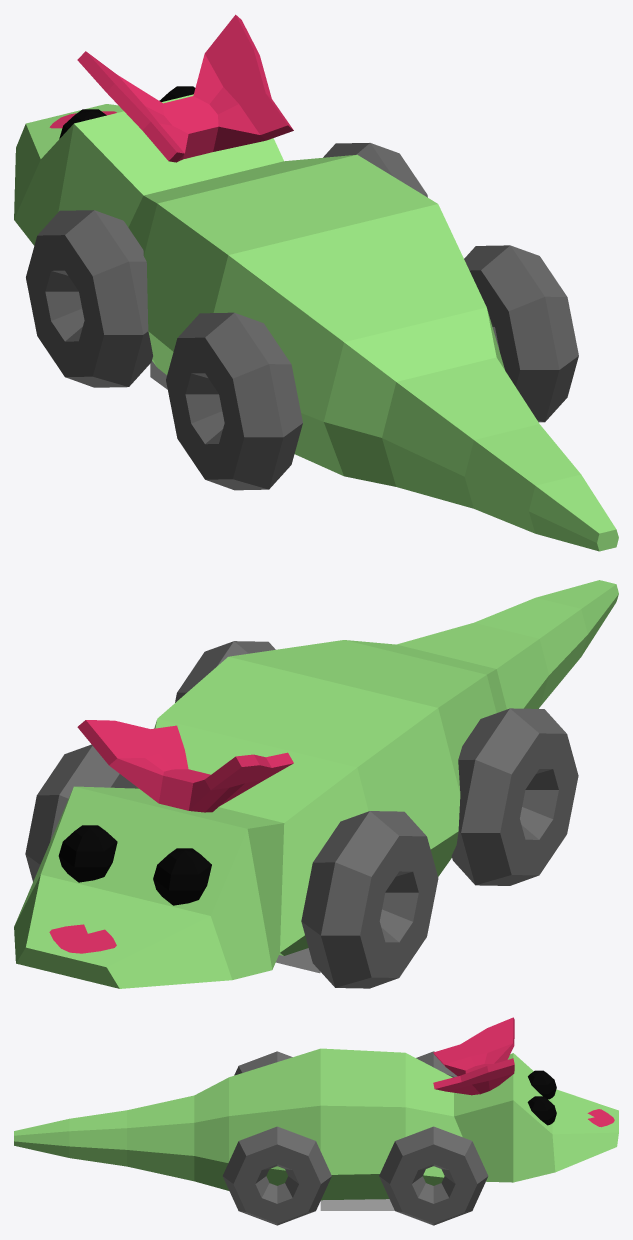
File: lizard.glb
The picture shows the model from 3 angles, top to bottom: view 1: azimuth 30°, elevation 25°; view 2: azimuth 150°, elevation 25°; view 3: azimuth 270°, elevation 25°; orthographic projection. The views are drawn at different scales.
Visible parts, largest first — view 1: Body, Wheels, Plane.002, Eyes; view 2: Body, Wheels, Plane.002, Eyes, Plane.001, Cube; view 3: Body, Wheels, Plane.002, Eyes, Cube, Plane.001.
Boxes of the visible parts, bbox=[...] form: Body: bbox=[14, 94, 618, 551]; Wheels: bbox=[26, 143, 578, 490]; Plane.002: bbox=[77, 14, 293, 162]; Eyes: bbox=[59, 86, 195, 138]; Body: bbox=[14, 580, 618, 988]; Wheels: bbox=[25, 641, 578, 988]; Plane.002: bbox=[77, 720, 293, 812]; Eyes: bbox=[58, 825, 211, 905]; Plane.001: bbox=[49, 924, 116, 953]; Cube: bbox=[276, 948, 320, 973]; Body: bbox=[14, 1048, 618, 1200]; Wheels: bbox=[222, 1051, 488, 1225]; Plane.002: bbox=[433, 1017, 514, 1095]; Eyes: bbox=[527, 1070, 556, 1125]; Cube: bbox=[320, 1199, 394, 1210]; Plane.001: bbox=[587, 1109, 614, 1127].
Bounding box in the file's own units: 3.94 × 3.03 × 11.06.
